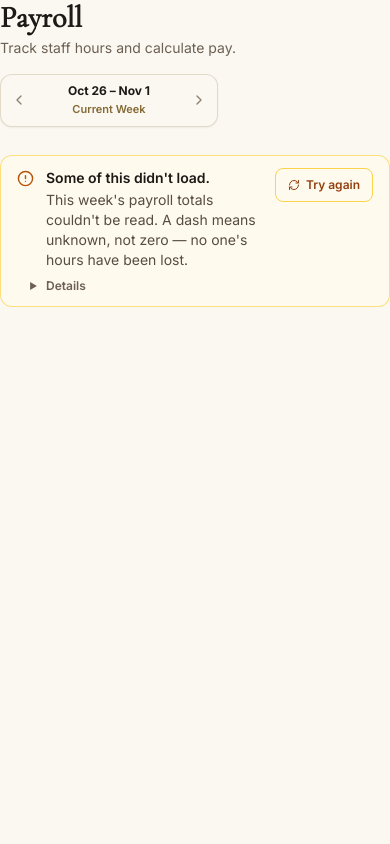
it: RETRY › recovers the totals in place
This screenshot has width=390, height=844.
Click the button "Try again" at (324, 184), box [275, 168, 373, 202]
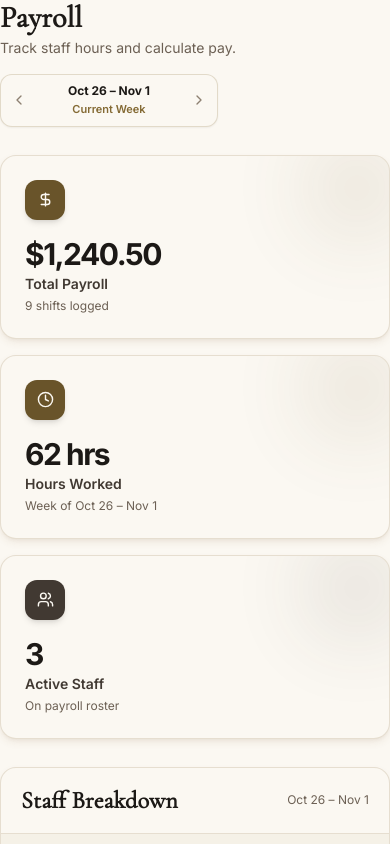
Expected: the text "$1,240.50" is shown, [25, 236, 161, 272]
